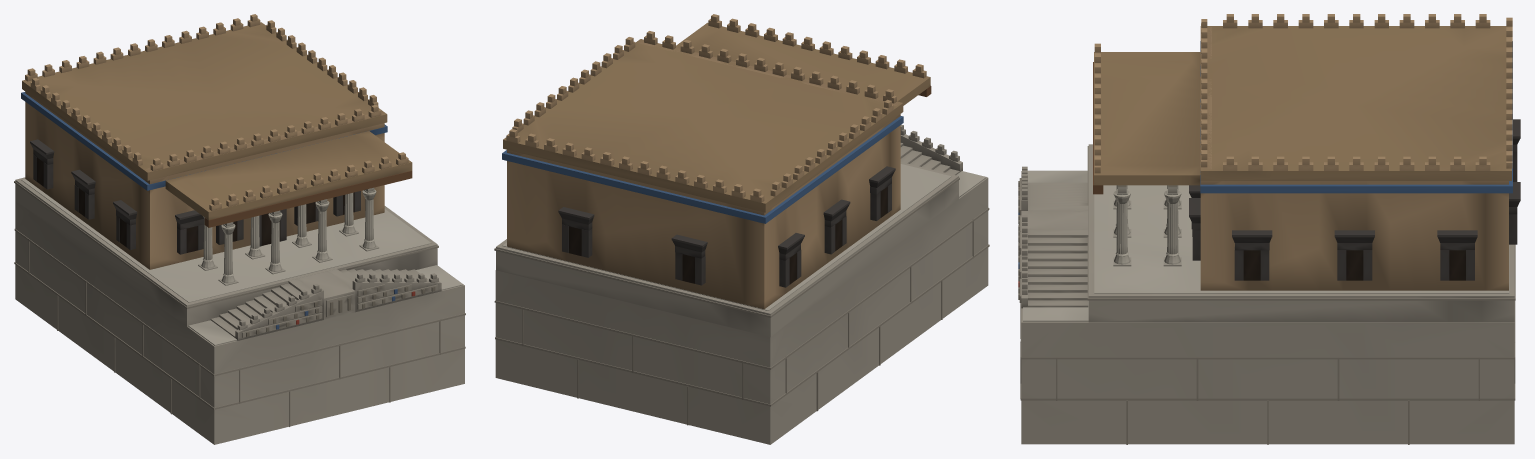
File: tachara.glb
3 renders of one model, left to right at view 1: azimuth 30°, elevation 25°; view 2: azimuth 150°, elevation 25°; view 3: azimuth 270°, elevation 25°, orthographic. The views are drawn at different scales.
Parts seen in each view (by area): view 1: p0_platform, p2_roof, p1_walls; view 2: p0_platform, p2_roof, p1_walls; view 3: p0_platform, p2_roof, p1_walls.
Part boxes in pixels (left/top/right/bottom): p0_platform: left=14, top=177, right=465, bottom=444; p2_roof: left=21, top=14, right=412, bottom=227; p1_walls: left=25, top=92, right=384, bottom=285; p0_platform: left=494, top=124, right=989, bottom=444; p2_roof: left=502, top=14, right=931, bottom=223; p1_walls: left=507, top=118, right=900, bottom=309; p0_platform: left=1018, top=144, right=1515, bottom=444; p2_roof: left=1093, top=14, right=1512, bottom=194; p1_walls: left=1113, top=119, right=1520, bottom=290.
Bounding box in the file's own units: 32.2 × 27.79 × 44.8.
